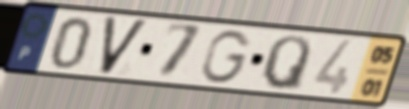0: (49, 15, 97, 70)
4: (310, 38, 356, 98)
7: (160, 21, 203, 82)
G: (199, 28, 255, 86)
Q: (258, 33, 314, 93)
V: (99, 14, 152, 78)
